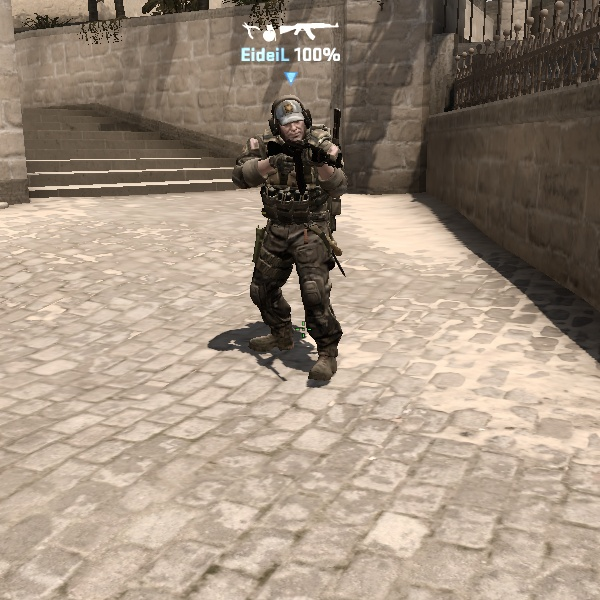ct_body: (212, 87, 368, 374)
ct_head: (263, 92, 318, 146)
